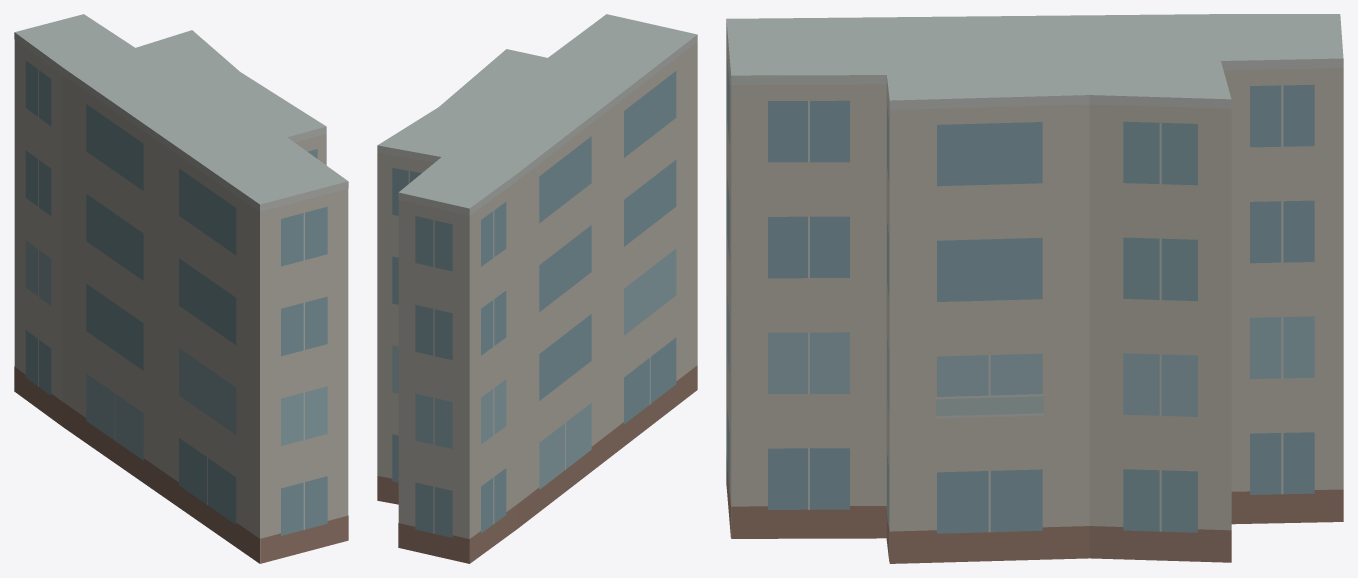
Rendered from survey-upis-32519796.glb.
The picture shows the model from 3 angles, left to right: view 1: azimuth 30°, elevation 25°; view 2: azimuth 150°, elevation 25°; view 3: azimuth 270°, elevation 25°; orthographic projection. The views are drawn at different scales.
Visible parts, largest first — view 1: survey-upis-32519796.tmp; view 2: survey-upis-32519796.tmp; view 3: survey-upis-32519796.tmp.
Boxes of the visible parts, x1,y1,x2,y2 form: survey-upis-32519796.tmp: (14, 14, 348, 563); survey-upis-32519796.tmp: (377, 14, 697, 563); survey-upis-32519796.tmp: (726, 14, 1343, 563).
Size of the model in its own units: 4.82 by 12 by 14.5.
